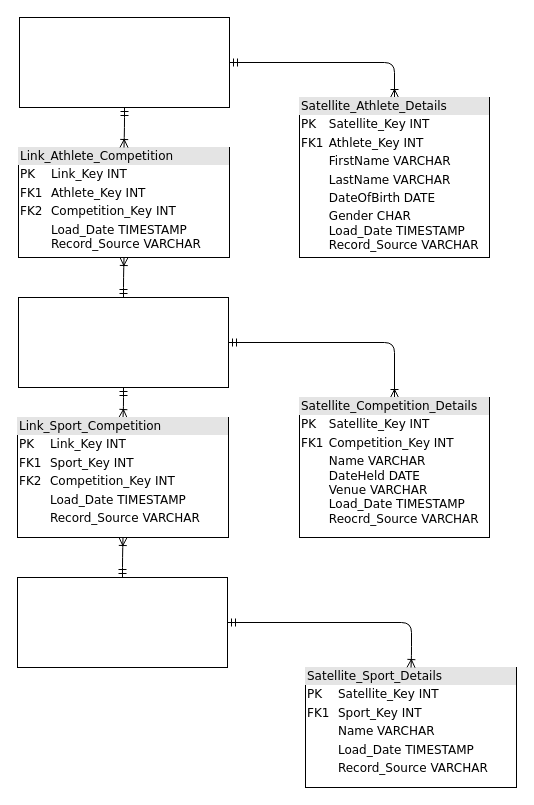
The diagram is 534 pixels wide and 805 high, and some of its shapes have lost their labels. Here are the shapes that lost their labels. From the top down, the centre of each, then its label:
the point at 124,62: Hub_Athlete PK Athlete_Key INT Load_Date TIMESTAMP Record_Source VARCHAR
the point at 123,342: Hub_Competition PK Competition_Key INT Load_Date TIMESTAMP Record_Source VARCHAR
the point at 122,622: Hub_Sport PK Sport_Key INT Load_Date TIMESTAMP Record_Source VARCHAR
